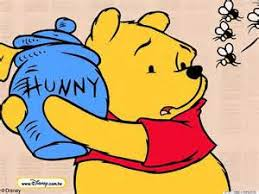Winnie: (75, 8, 214, 167)
